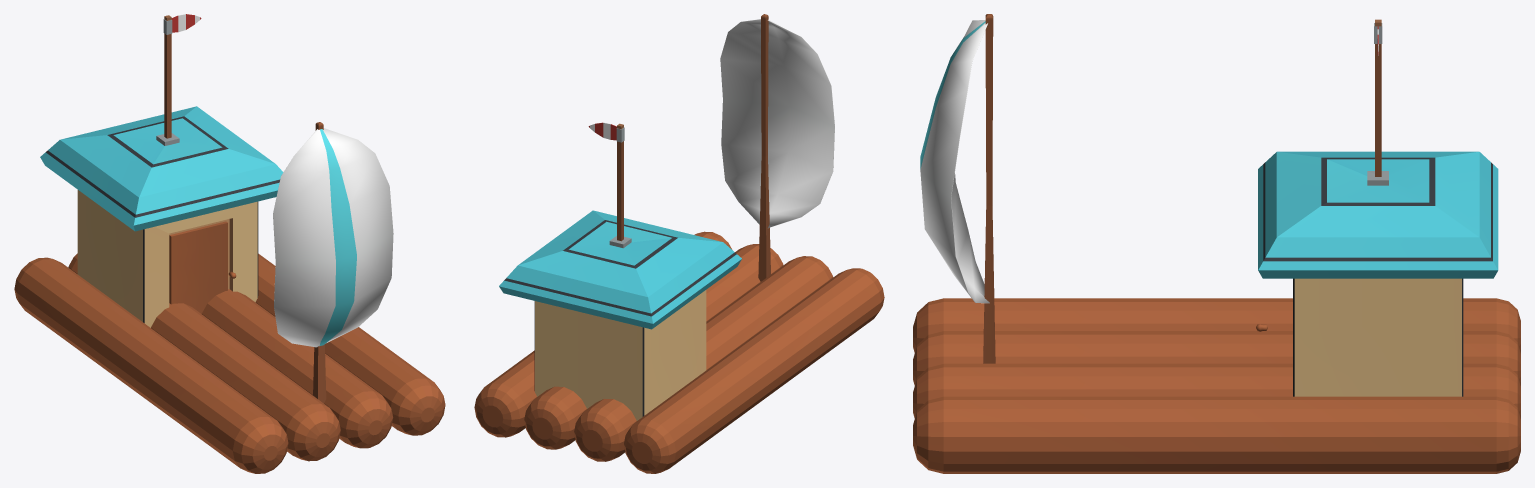
Rendered from boatSeller.fbx.
3 renders of one model, left to right at view 1: azimuth 30°, elevation 25°; view 2: azimuth 150°, elevation 25°; view 3: azimuth 270°, elevation 25°, orthographic. The views are drawn at different scales.
Parts seen in each view (by area): view 1: Cylinder, Cube, Plane, Cube.001; view 2: Cylinder, Cube, Plane, Cube.001; view 3: Cylinder, Cube, Plane, Cube.001.
Boxes of the visible parts, x1,y1,x2,y2 form: Cylinder: (14, 253, 445, 473); Cube: (40, 14, 283, 327); Plane: (273, 128, 393, 347); Cube.001: (313, 122, 326, 403); Cylinder: (474, 231, 884, 473); Cube: (499, 122, 741, 420); Plane: (720, 19, 834, 227); Cube.001: (758, 14, 770, 281); Cylinder: (913, 298, 1520, 473); Cube: (1258, 19, 1498, 396); Plane: (920, 20, 989, 303); Cube.001: (983, 14, 995, 363).
Size of the model in its own units: 8 by 11.58 by 15.69.
1 material, 1 textured.
